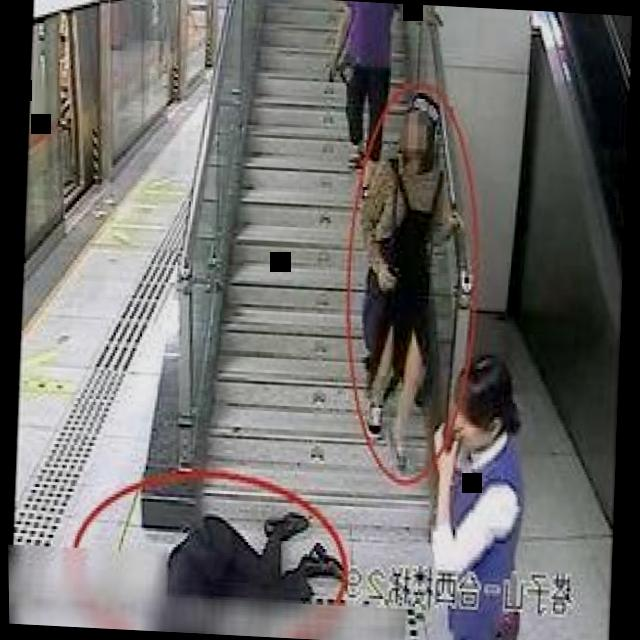Fall-Detected: (134, 478, 367, 634)
